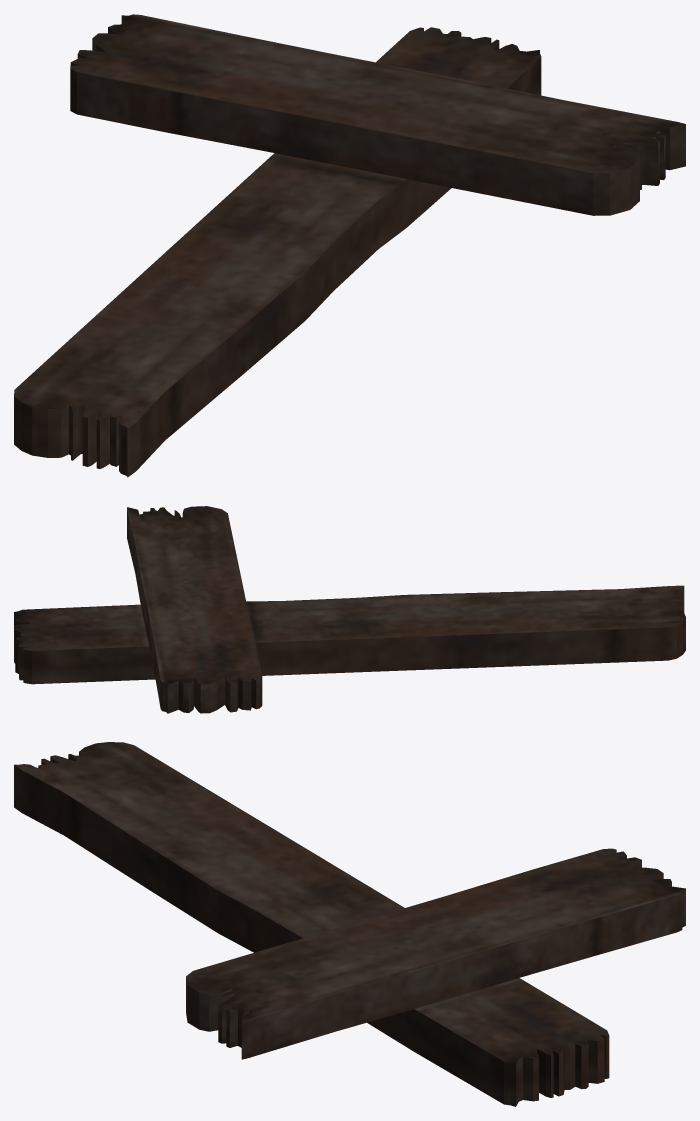
3 views of the same model, one above another, from view 1: azimuth 30°, elevation 25°; view 2: azimuth 150°, elevation 25°; view 3: azimuth 270°, elevation 25° (orthographic). The views are drawn at different scales.
Parts seen in each view (by area): view 1: cross_1; view 2: cross_1; view 3: cross_1.
Boxes of the visible parts, x1=… form: cross_1: x1=14, y1=14, x2=685, y2=477; cross_1: x1=14, y1=506, x2=685, y2=713; cross_1: x1=14, y1=742, x2=685, y2=1106.
Bounding box in the file's own units: 0.3702 × 0.043 × 0.3264.
1 material, 1 textured.
